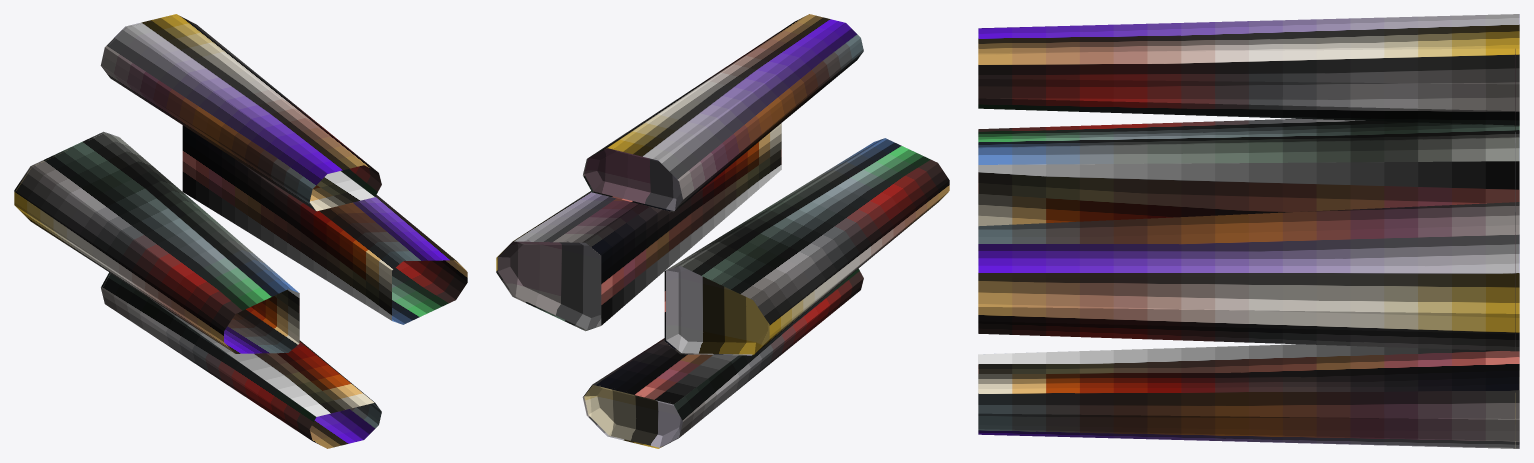
File: Fighter Exhaust.fbx
3 renders of one model, left to right at view 1: azimuth 30°, elevation 25°; view 2: azimuth 150°, elevation 25°; view 3: azimuth 270°, elevation 25°, orthographic. The views are drawn at different scales.
Visible parts, largest first — view 1: Fighter Exhaust Cone; view 2: Fighter Exhaust Cone; view 3: Fighter Exhaust Cone.
Boxes of the visible parts, box(x1,y1,x2,y2) form: Fighter Exhaust Cone: box(14, 14, 467, 448); Fighter Exhaust Cone: box(496, 14, 949, 448); Fighter Exhaust Cone: box(978, 14, 1519, 448).
Bounding box in the file's own units: 6 × 7.41 × 6.05.
